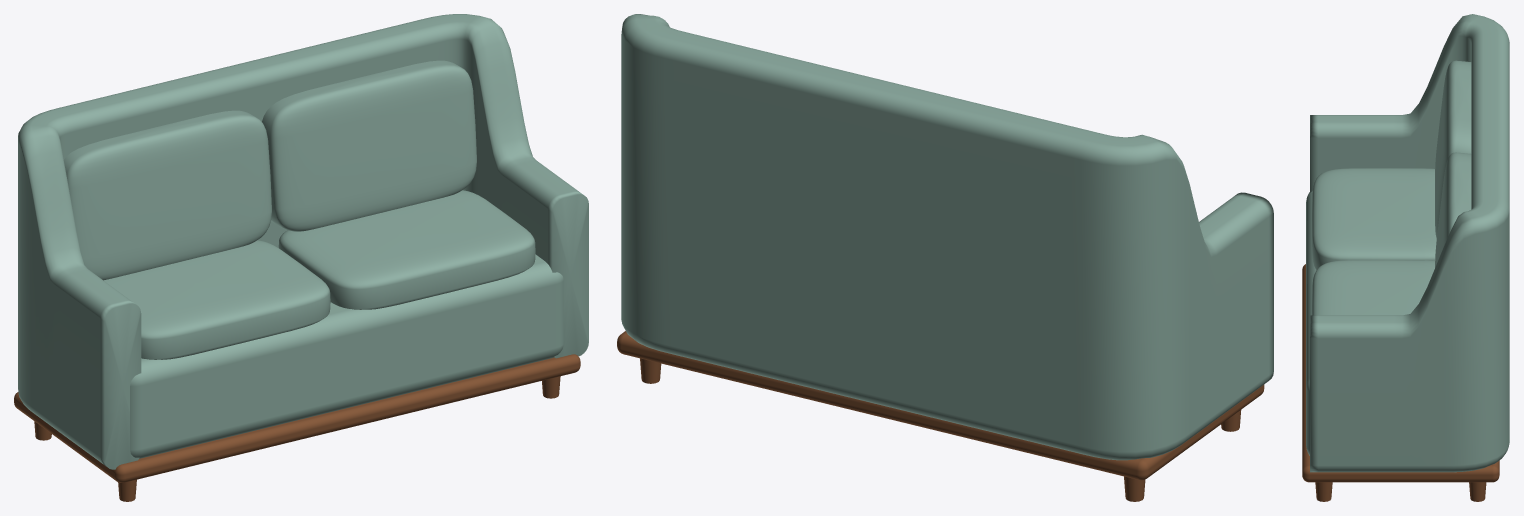
Rendered from sofa.glb.
The picture shows the model from 3 angles, left to right: view 1: azimuth 30°, elevation 25°; view 2: azimuth 150°, elevation 25°; view 3: azimuth 270°, elevation 25°; orthographic projection. The views are drawn at different scales.
Parts seen in each view (by area): view 1: continuous-arm-and-back-shell, upholstered-seat-deck, back-cushion-2, back-cushion-1, seat-cushion-2, seat-cushion-1, underframe; view 2: continuous-arm-and-back-shell, underframe; view 3: continuous-arm-and-back-shell, seat-cushion-1, seat-cushion-2, back-cushion-1, underframe, back-cushion-2, upholstered-seat-deck, foot-1-1, foot-1--1.
Part boxes in pixels (x1,y1,x2,y2): continuous-arm-and-back-shell: [18, 14, 588, 469]; upholstered-seat-deck: [130, 254, 563, 458]; back-cushion-2: [262, 60, 476, 231]; back-cushion-1: [63, 110, 271, 280]; seat-cushion-2: [278, 190, 535, 309]; seat-cushion-1: [104, 240, 330, 359]; underframe: [14, 354, 580, 482]; continuous-arm-and-back-shell: [621, 14, 1273, 460]; underframe: [617, 331, 1264, 480]; continuous-arm-and-back-shell: [1310, 14, 1509, 472]; seat-cushion-1: [1312, 168, 1436, 269]; seat-cushion-2: [1312, 260, 1434, 315]; back-cushion-1: [1435, 60, 1471, 238]; underframe: [1302, 264, 1499, 482]; back-cushion-2: [1435, 152, 1471, 267]; upholstered-seat-deck: [1306, 191, 1316, 455]; foot-1-1: [1315, 482, 1332, 501]; foot-1--1: [1469, 482, 1486, 501].
Size of the model in its own units: 2 by 1.24 by 0.81.
